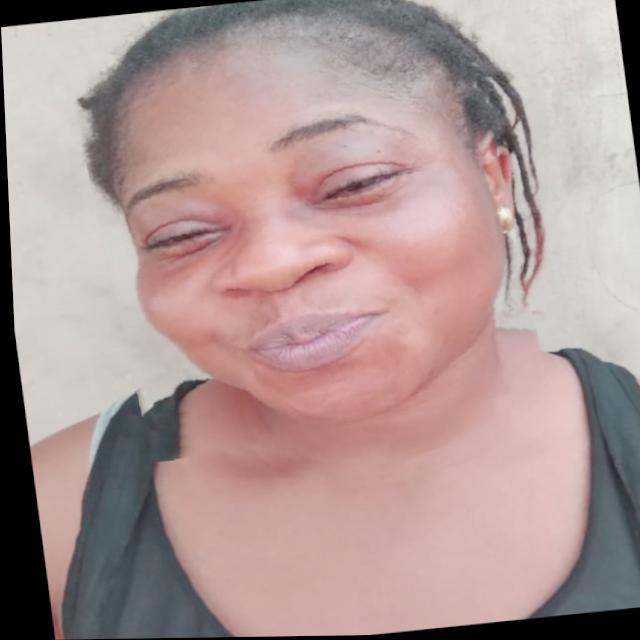happy: (65, 0, 541, 458)
